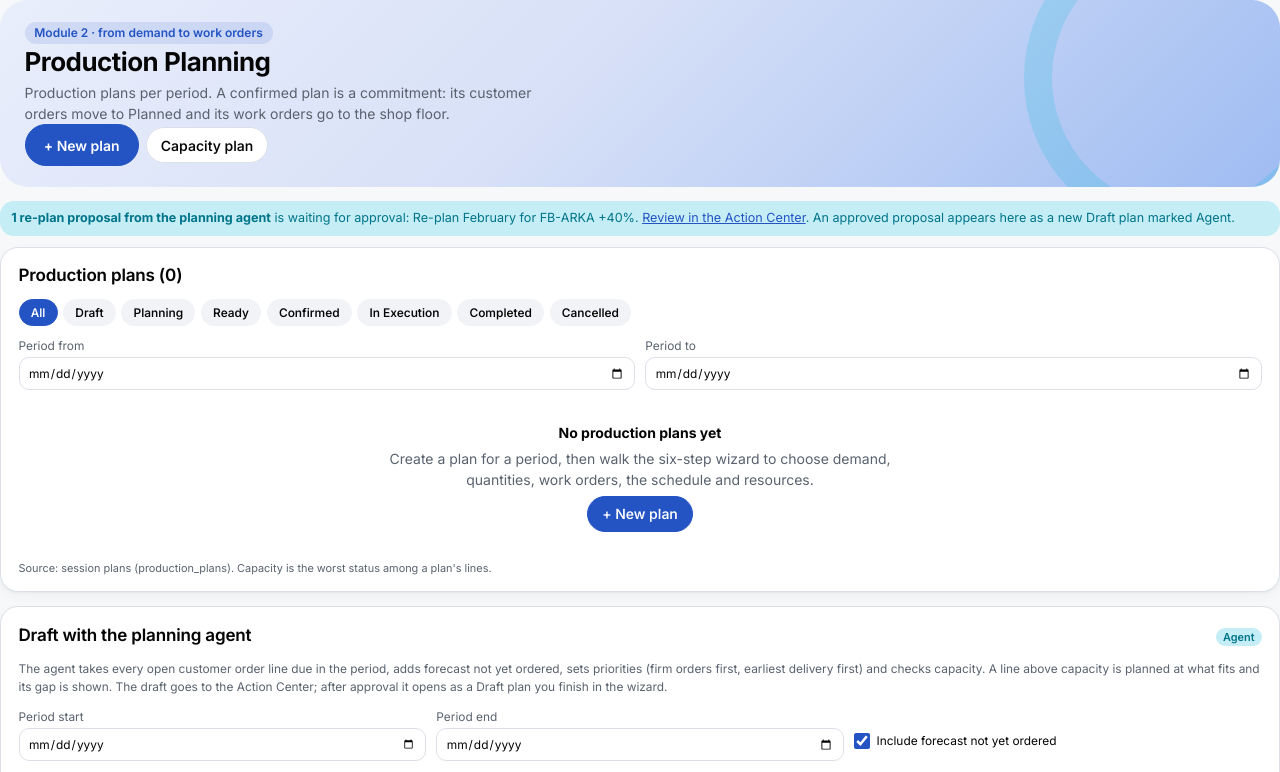
shows the empty state with a create action, and an error with retry
This screenshot has width=1280, height=772.
Expected: the text "No production plans yet" is shown, [558, 422, 721, 443]
Click the button "+ New plan" below "No production plans yet". click: (640,514)
box: [587, 496, 693, 532]
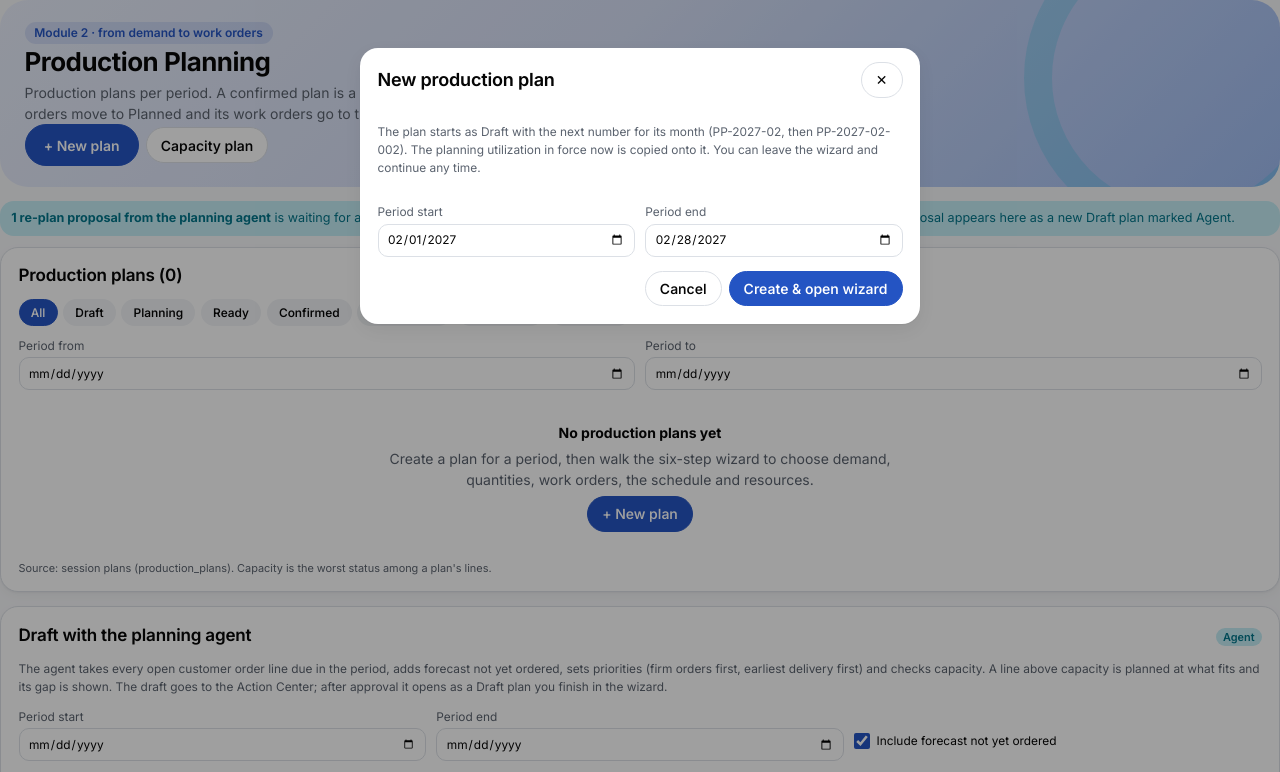
Expected: the dialog "New production plan" is shown, [360, 48, 920, 324]
